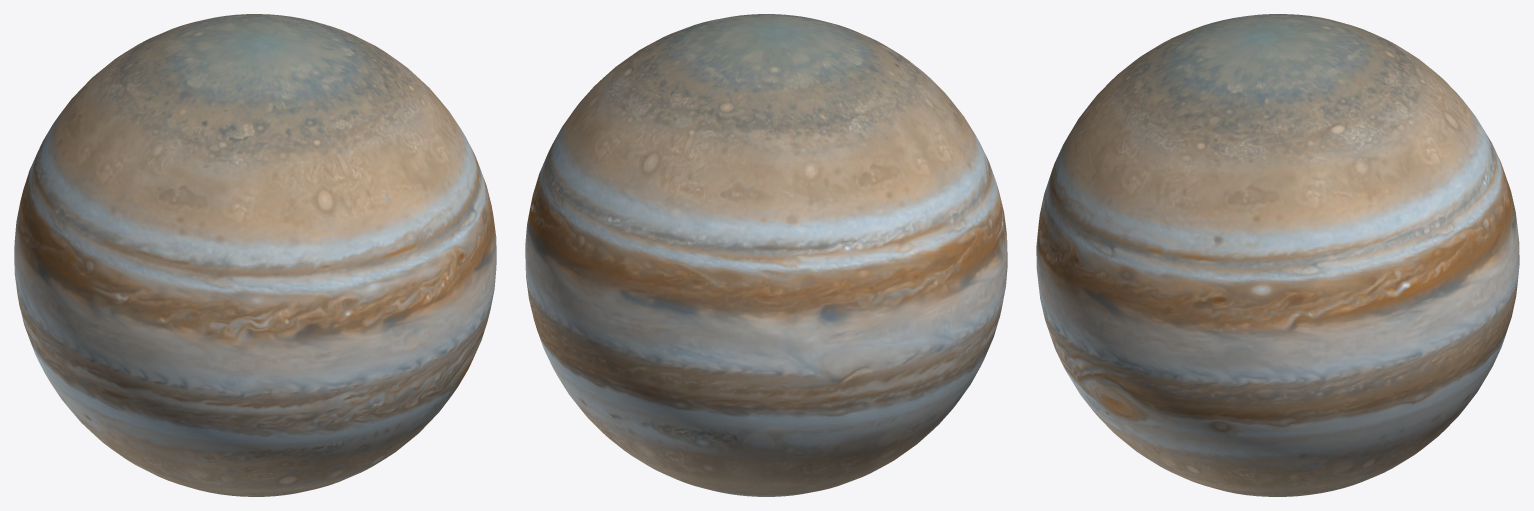
File: Jupiter.glb
3 renders of one model, left to right at view 1: azimuth 30°, elevation 25°; view 2: azimuth 150°, elevation 25°; view 3: azimuth 270°, elevation 25°, orthographic.
Visible parts, largest first — view 1: Jupiter; view 2: Jupiter; view 3: Jupiter.
Part boxes in pixels (x1=…): Jupiter: x1=14, y1=14, x2=496, y2=496; Jupiter: x1=525, y1=14, x2=1007, y2=496; Jupiter: x1=1036, y1=14, x2=1519, y2=496.
Size of the model in its own units: 5.6 by 5.59 by 5.59.
Materials: 1 (1 with a texture image).
